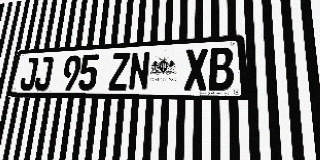5: (78, 54, 99, 90)
9: (61, 55, 82, 90)
B: (209, 47, 234, 90)
J: (33, 57, 54, 90), (19, 58, 39, 90)
N: (128, 51, 150, 90)
X: (184, 48, 208, 90)
Z: (108, 53, 130, 90)
